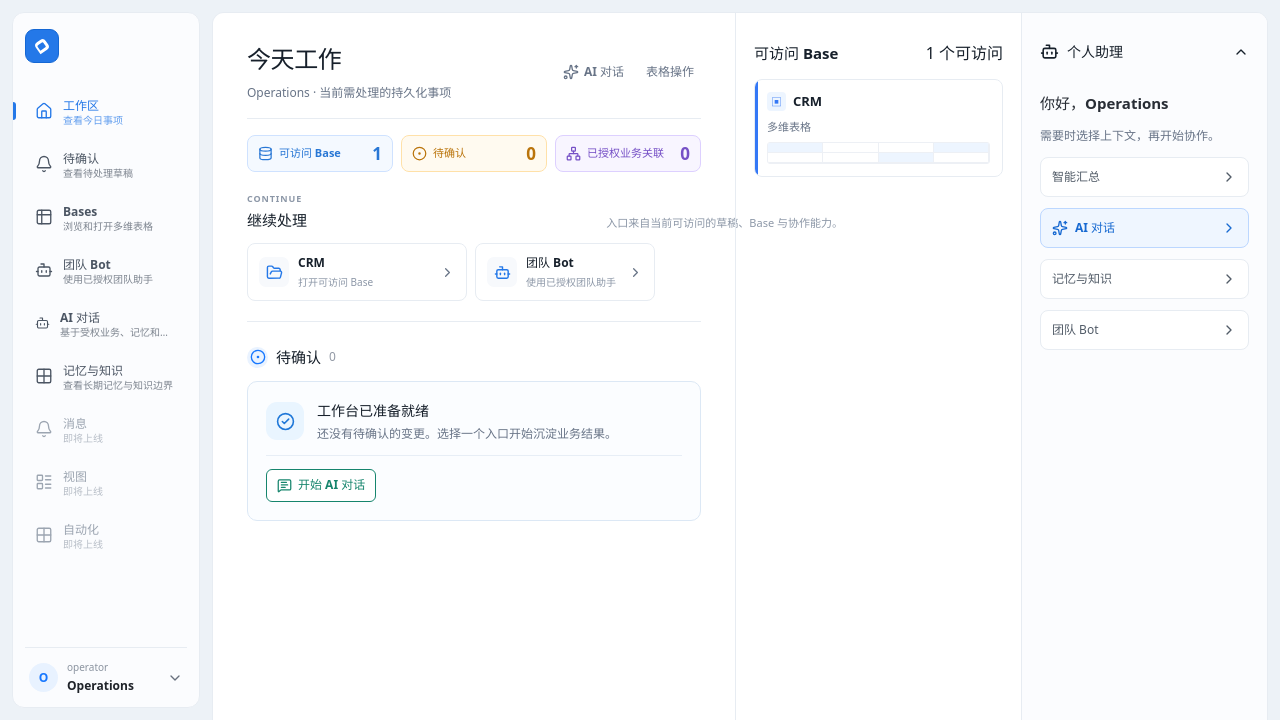
Test: shows the safe empty canvas without guessing resources for a table with no saved view
Click the link "▣ CRM 多维表格": (878, 128) [754,79,1003,177]
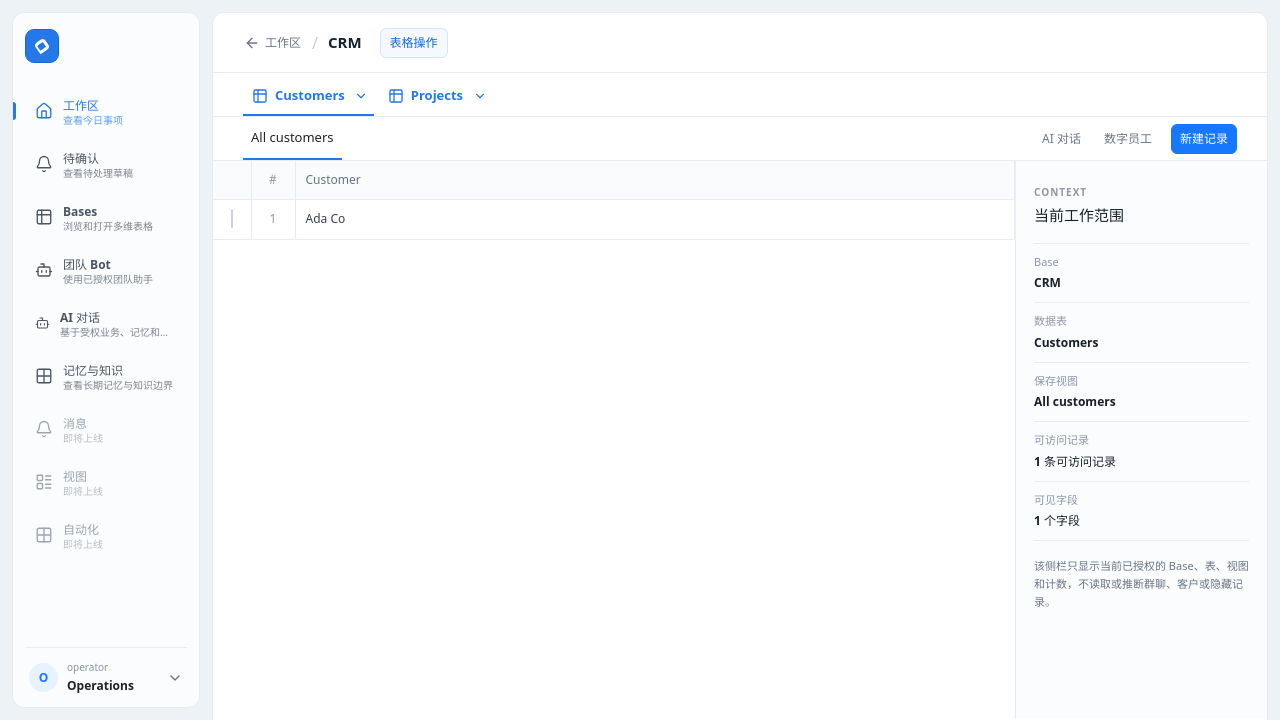
Expected: the cell "Ada Co" is shown, [295,199,1014,239]
Click the tab "Projects": (423, 96) [379,78,467,114]
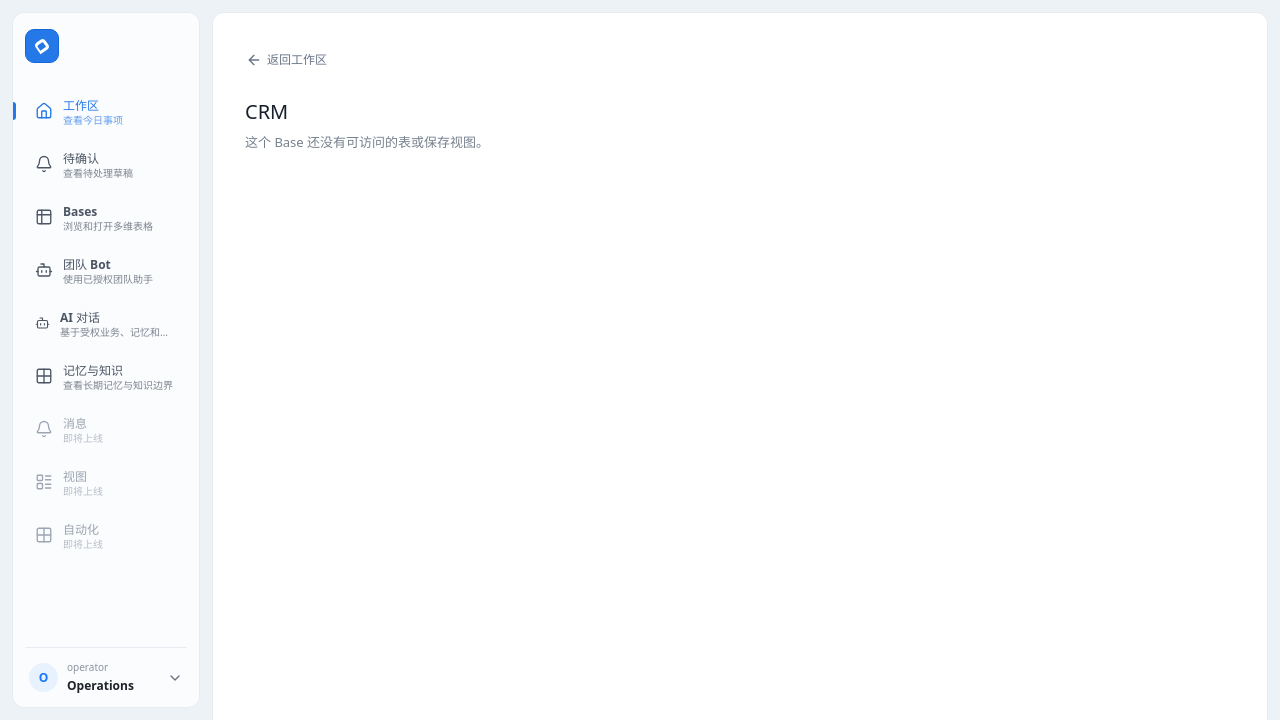
Expected: the text "这个 Base 还没有可访问的表或保存视图。" is shown, [245,133,489,151]
